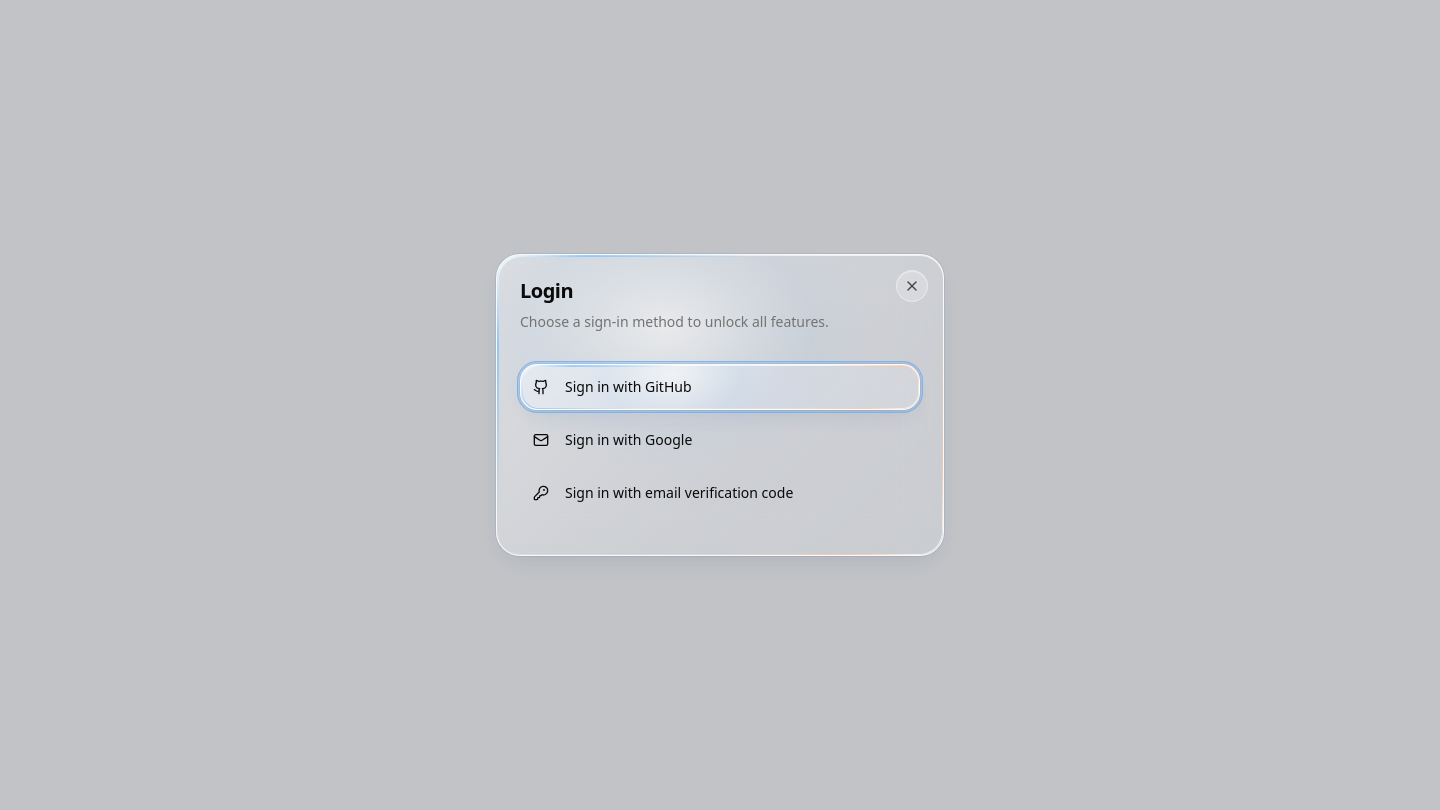
it: LoginDialog › 英文环境覆盖登录方式、邮箱表单和关闭按钮
The image size is (1440, 810).
Expected: the heading "Login" is shown, [520,277,573,304]
Expected: the button "Sign in with GitHub" is shown, [520,364,920,410]
What coordinates should you click on to do the following:
click the button "Sign in with email verification code"
I would click on:
 (720, 493)
Its box is [520,470,920,516].
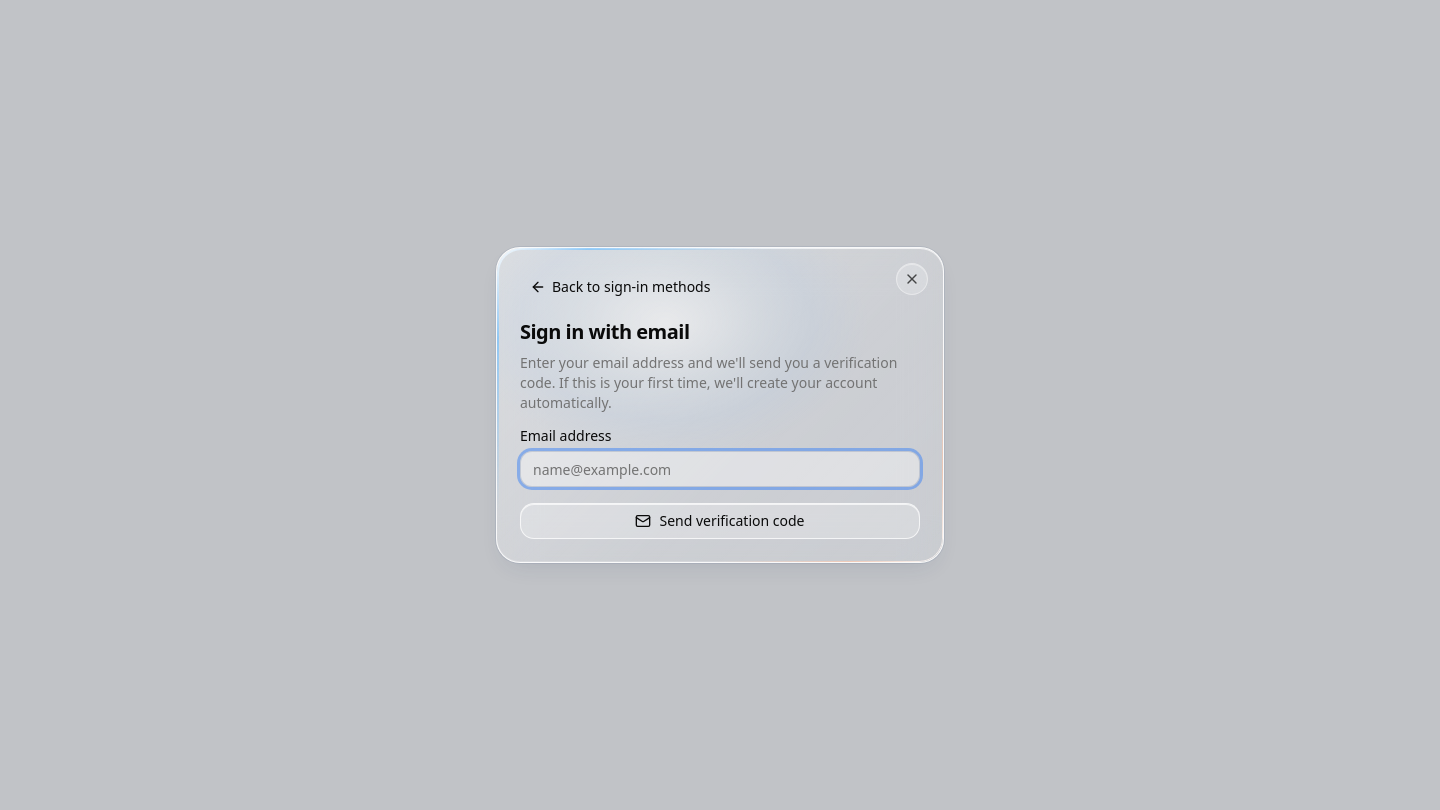
Expected: the button named "Close sign-in dialog" is shown, [896,263,928,295]
Expected: the field labelled "Email address" is shown, [520,451,920,487]
Expected: the heading "Sign in with email" is shown, [520,318,690,345]
